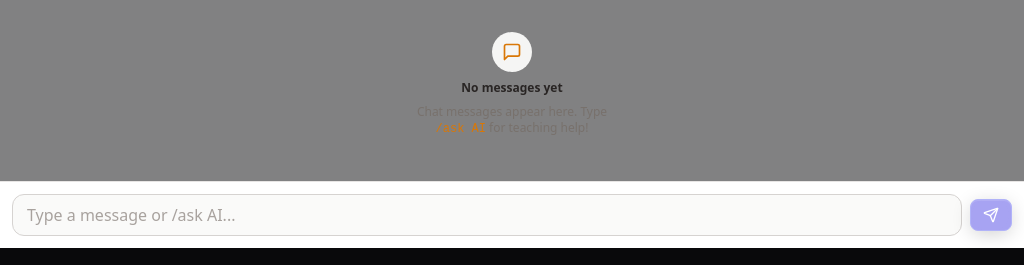
ChatTab Component (Real-Time Whiteboard Chat & iOS 16px Font) › sends message via form submission and clears input
Expected: the button with test id "send-chat-btn" is disabled, [970,199,1012,231]
# Type message
Type "Is this formula right?" into the field with test id "chat-input" at (487, 215), box [12,194,962,236]
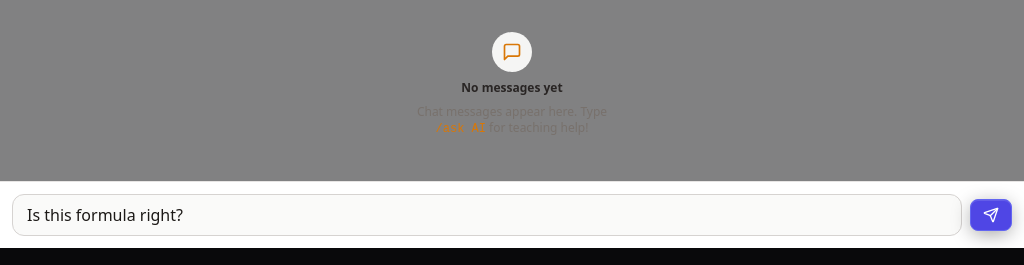
Expected: the button with test id "send-chat-btn" is enabled
# Submit form
Click the button with test id "send-chat-btn" at (991, 215), box [970,199,1012,231]
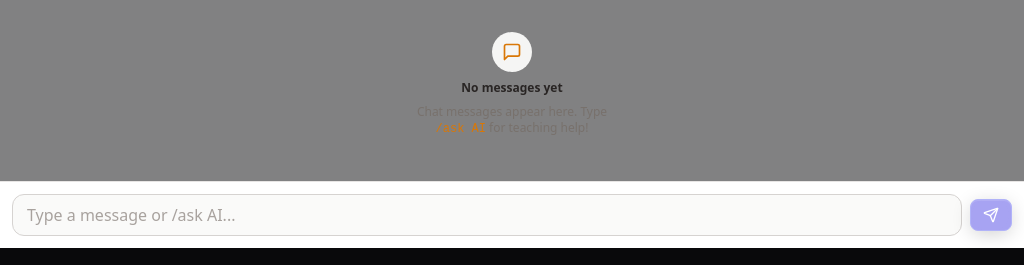
Expected: the field with test id "chat-input" is empty, [12,194,962,236]
